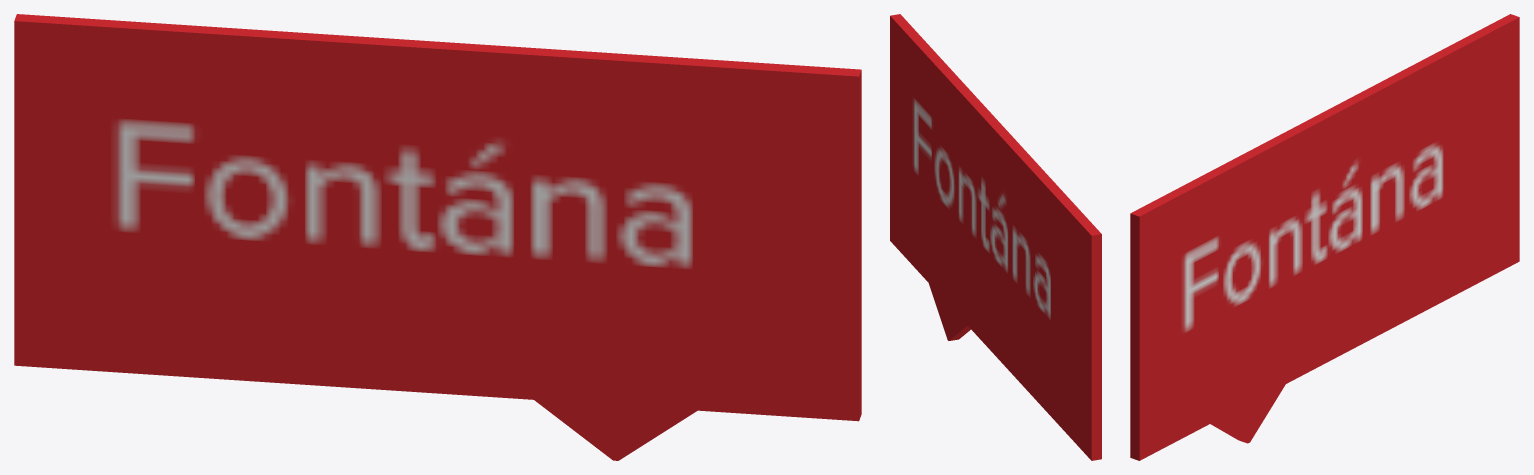
Rendered from sign7.glb.
3 renders of one model, left to right at view 1: azimuth 30°, elevation 25°; view 2: azimuth 150°, elevation 25°; view 3: azimuth 270°, elevation 25°, orthographic. The views are drawn at different scales.
Visible parts, largest first — view 1: sign_7_fontana; view 2: sign_7_fontana; view 3: sign_7_fontana.
Part boxes in pixels (<box>): sign_7_fontana: <box>14,14,861,460</box>; sign_7_fontana: <box>890,14,1101,460</box>; sign_7_fontana: <box>1130,14,1519,460</box>.
Bounding box in the file's own units: 1.25 × 0.8188 × 1.02.
Materials: 1 (1 with a texture image).
